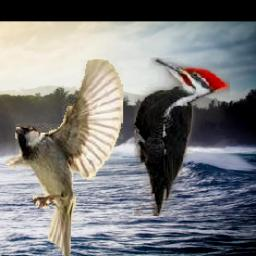Sparrow: (3, 54, 122, 256)
Woodpecker: (134, 58, 230, 217)
